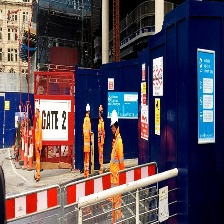helmet: (110, 108, 118, 134)
person: (34, 105, 43, 187), (82, 105, 91, 179)
